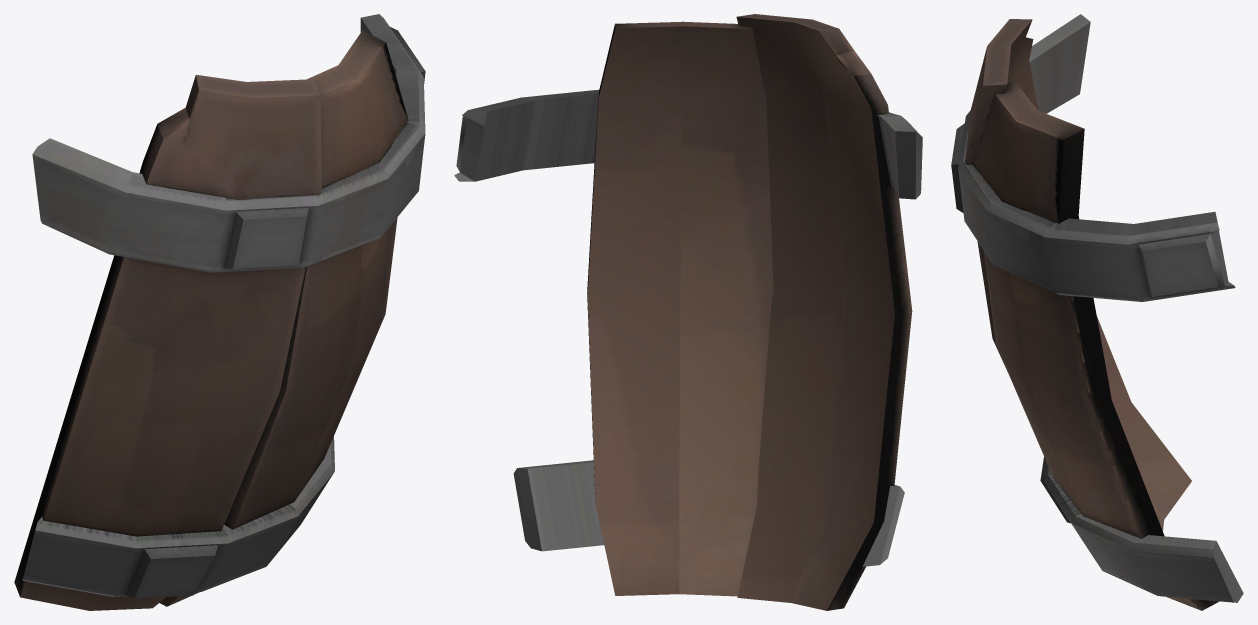
Rendered from exp_fish_barrel_gib2.glb.
3 renders of one model, left to right at view 1: azimuth 30°, elevation 25°; view 2: azimuth 150°, elevation 25°; view 3: azimuth 270°, elevation 25°, orthographic. The views are drawn at different scales.
Parts seen in each view (by area): view 1: exp_fish_barrel_gib2; view 2: exp_fish_barrel_gib2; view 3: exp_fish_barrel_gib2.
Part boxes in pixels (x1=…): exp_fish_barrel_gib2: x1=14, y1=14, x2=425, y2=610; exp_fish_barrel_gib2: x1=454, y1=14, x2=922, y2=610; exp_fish_barrel_gib2: x1=951, y1=14, x2=1243, y2=610.
Bounding box in the file's own units: 0.7692 × 0.9846 × 0.4868.
1 material, 1 textured.
